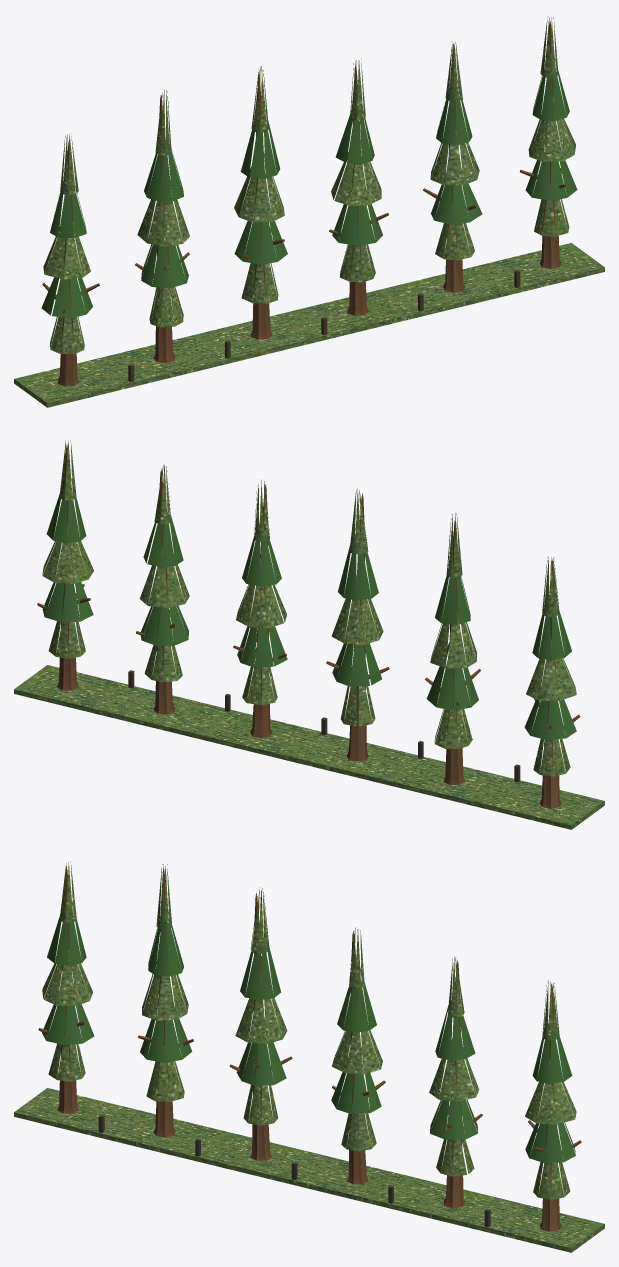
Rendered from windbreak.glb.
3 views of the same model, one above another, from view 1: azimuth 30°, elevation 25°; view 2: azimuth 150°, elevation 25°; view 3: azimuth 330°, elevation 25° (orthographic).
Visible parts, largest first — view 1: LOD0.terrain.ground, LOD0._3f6b33, LOD0._6b4a2c, LOD0.trim.timber; view 2: LOD0.terrain.ground, LOD0._3f6b33, LOD0._6b4a2c, LOD0.trim.timber; view 3: LOD0.terrain.ground, LOD0._3f6b33, LOD0._6b4a2c, LOD0.trim.timber.
Boxes of the visible parts, x1,y1,x2,y2 form: LOD0.terrain.ground: (14,17,604,407); LOD0._3f6b33: (41,55,577,318); LOD0._6b4a2c: (42,21,567,386); LOD0.trim.timber: (128,270,520,382); LOD0.terrain.ground: (14,440,604,829); LOD0._3f6b33: (42,478,576,739); LOD0._6b4a2c: (37,444,580,808); LOD0.trim.timber: (128,670,520,782); LOD0.terrain.ground: (14,861,604,1252); LOD0._3f6b33: (42,902,575,1163); LOD0._6b4a2c: (38,866,581,1231); LOD0.trim.timber: (98,1115,490,1227).
Size of what is drawn, in the model's own units: 52 by 24.49 by 5.4.
Materials: 4 (4 with a texture image).
